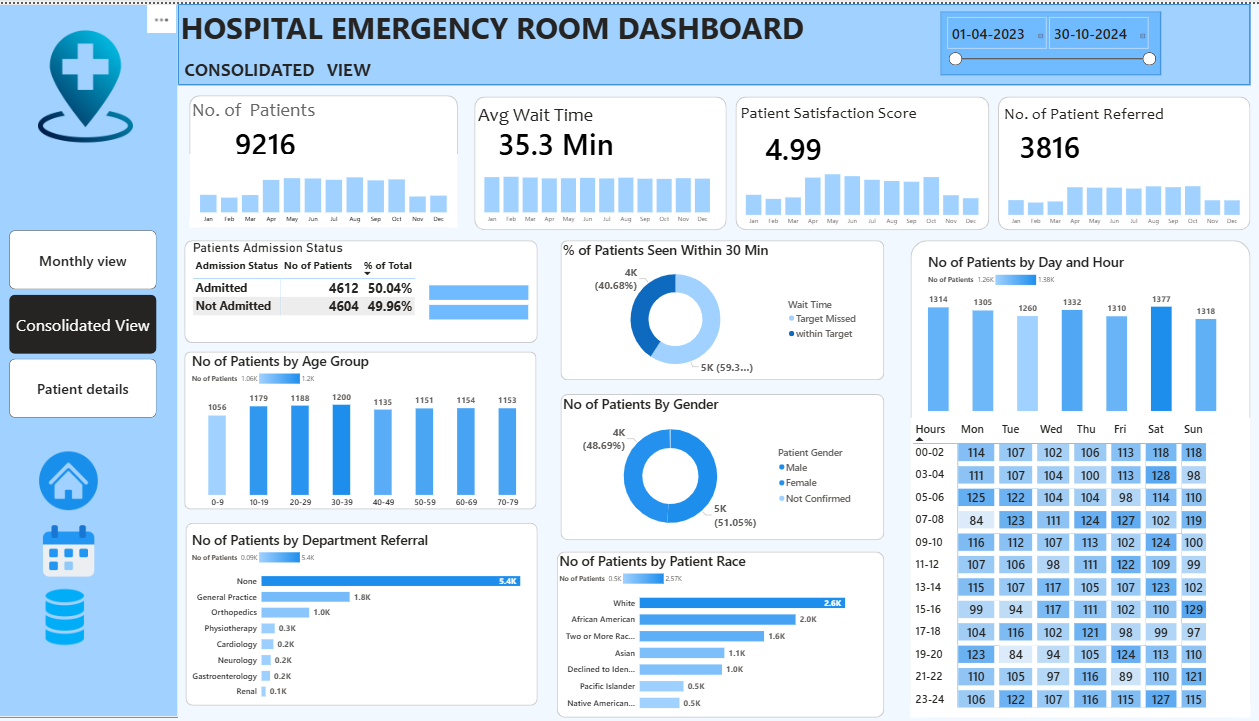

This screenshot's page, from the dashboard's own definition file:
{"tool":"powerbi","page":{"name":"Consolidated View","canvas":[2500,1420],"ordinal":1},"visuals":[{"type":"shape","box":[9.8,0,363.1,1400.9],"z":0},{"type":"shape","box":[372.9,0,2105,159.5],"z":1000},{"type":"textbox","box":[374,0,1252.4,108.3],"z":2000},{"type":"shape","box":[395,179.1,527.5,260.1],"z":3000},{"type":"textbox","box":[380.3,100.6,488.2,78.5],"z":4000},{"type":"card","fields":{"Values":["Hospital ER_Data.No of Patients"]},"box":[463.7,235.5,161.9,71.1],"z":5000},{"type":"slicer","fields":{"Values":["Date Table.Date"]},"box":[1869.5,14.7,431.8,125.1],"z":6000},{"type":"textbox","box":[396.1,179.6,337.1,59.1],"z":7000},{"type":"columnChart","fields":{"Category":["Date Table.Month Name"],"Y":["Hospital ER_Data.No of Patients"]},"box":[395,294.4,527.5,144.7],"z":8000},{"type":"shape","box":[954.4,181.5,495.6,262.5],"z":9000},{"type":"shape","box":[1982.3,181.5,495.6,262.5],"z":10000},{"type":"shape","box":[1467.1,181.5,498,262.5],"z":11000},{"type":"textbox","box":[956.8,188.9,245.3,61.3],"z":12000},{"type":"card","fields":{"Values":["Hospital ER_Data.Avg Wait Time"]},"box":[988.7,235.5,252.7,71.1],"z":13000},{"type":"columnChart","fields":{"Category":["Date Table.Month Name"],"Y":["Avg(Hospital ER_Data.Patient Waittime)"]},"box":[954.4,318.9,483.3,120.2],"z":14000},{"type":"textbox","box":[1472,188.9,368,58.9],"z":15000},{"type":"card","fields":{"Values":["Avg(Hospital ER_Data.Patient Satisfaction Score)"]},"box":[1506.4,247.8,149.7,66.2],"z":16000},{"type":"columnChart","fields":{"Category":["Date Table.Month Name"],"Y":["Hospital ER_Data.No of Patient Referred"]},"box":[1982.3,318.9,495.6,125.1],"z":17000},{"type":"textbox","box":[1982.3,191.4,370.5,58.9],"z":18000},{"type":"card","fields":{"Values":["Hospital ER_Data.No of Patient Referred"]},"box":[2009.3,242.9,149.7,71.1],"z":19000},{"type":"shape","box":[386.3,462.6,693.8,201.8],"z":20000},{"type":"columnChart","fields":{"Category":["Date Table.Month Name"],"Y":["Sum(Hospital ER_Data.Patient Satisfaction Score)"]},"box":[1467.1,318.9,498,125.1],"z":21000},{"type":"pivotTable","title":"Patients Admission Status","fields":{"Rows":["Hospital ER_Data.Admission Status"],"Values":["Hospital ER_Data.No of Patients1","Divide(Hospital ER_Data.No of Patients, ScopedEval(Hospital ER_Data.No of Patients, []))"]},"box":[398.6,462.6,452.7,201.8],"z":22000},{"type":"barChart","fields":{"Category":["Hospital ER_Data.Admission Status"],"Y":["Hospital ER_Data.No of Patients"]},"box":[861.1,519.2,263.3,125.5],"z":23000},{"type":"shape","box":[386.3,681.5,691.4,310],"z":24000},{"type":"clusteredColumnChart","fields":{"Y":["Hospital ER_Data.No of Patients"],"Category":["Hospital ER_Data.Age Group"]},"box":[396.1,681.5,681.5,317.4],"z":25000},{"type":"shape","box":[388.7,1018.6,691.4,359.2],"z":26000},{"type":"clusteredBarChart","fields":{"Category":["Hospital ER_Data.Department Referral"],"Y":["Hospital ER_Data.No of Patients"]},"box":[396.1,1033.4,681.5,344.5],"z":27000},{"type":"shape","box":[1123.6,463.7,635.4,274.8],"z":28000},{"type":"donutChart","title":"% of Patients Seen Within 30 Min","fields":{"Category":["Hospital ER_Data.Wait Time"],"Y":["Hospital ER_Data.No of Patients"]},"box":[1123.6,463.7,593.7,274.8],"z":29000},{"type":"shape","box":[1123.6,765.4,635.4,287],"z":30000},{"type":"donutChart","title":"No of Patients By Gender","fields":{"Category":["Hospital ER_Data.Patient Gender"],"Y":["Hospital ER_Data.No of Patients"]},"box":[1123.6,765.4,583.9,287],"z":31000},{"type":"shape","box":[1116.3,1074.6,642.8,326.3],"z":32000},{"type":"clusteredBarChart","fields":{"Y":["Hospital ER_Data.No of Patients"],"Category":["Hospital ER_Data.Patient Race"]},"box":[1116.3,1074.6,601.1,326.3],"z":33000},{"type":"shape","box":[1810.6,463.7,667.3,937.2],"z":34000},{"type":"pivotTable","fields":{"Rows":["Hospital ER_Data.Waiting Interval"],"Columns":["Date Table.Day Name"],"Values":["Hospital ER_Data.No of Patients"]},"box":[1810.6,812.1,667.3,588.8],"z":35000},{"type":"columnChart","title":"No of Patients by Day and Hour","fields":{"Category":["Date Table.Day Name"],"Y":["Hospital ER_Data.No of Patient Referred"]},"box":[1840,488.2,579,316.5],"z":36000},{"type":"image","box":[76.1,44.2,230.6,235.5],"z":37000},{"type":"pageNavigator","box":[41.7,444.1,289.5,368],"z":38000},{"type":"image","box":[88.3,873.4,139.8,125.1],"z":39000},{"type":"image","box":[103,1018.1,110.4,110.4],"z":40000},{"type":"image","box":[88.3,1135.9,125.1,134.9],"z":41000}]}

Visuals, with their boxes on the page's 2500x1420 design canvas (x1, y1, x2, y2). These are canvas units, not pixel positions in the 1259x721 screenshot, which may show the page scaled, cropped or inside an application window:
shape: 10, 0, 373, 1401
shape: 373, 0, 2478, 160
textbox: 374, 0, 1626, 108
shape: 395, 179, 922, 439
textbox: 380, 101, 868, 179
card - Hospital ER_Data.No of Patients: 464, 236, 626, 307
slicer - Date Table.Date: 1870, 15, 2301, 140
textbox: 396, 180, 733, 239
columnChart - Date Table.Month Name x Hospital ER_Data.No of Patients: 395, 294, 922, 439
shape: 954, 182, 1450, 444
shape: 1982, 182, 2478, 444
shape: 1467, 182, 1965, 444
textbox: 957, 189, 1202, 250
card - Hospital ER_Data.Avg Wait Time: 989, 236, 1241, 307
columnChart - Date Table.Month Name x Avg(Hospital ER_Data.Patient Waittime): 954, 319, 1438, 439
textbox: 1472, 189, 1840, 248
card - Avg(Hospital ER_Data.Patient Satisfaction Score): 1506, 248, 1656, 314
columnChart - Date Table.Month Name x Hospital ER_Data.No of Patient Referred: 1982, 319, 2478, 444
textbox: 1982, 191, 2353, 250
card - Hospital ER_Data.No of Patient Referred: 2009, 243, 2159, 314
shape: 386, 463, 1080, 664
columnChart - Date Table.Month Name x Sum(Hospital ER_Data.Patient Satisfaction Score): 1467, 319, 1965, 444
"Patients Admission Status" pivotTable: 399, 463, 851, 664
barChart - Hospital ER_Data.Admission Status x Hospital ER_Data.No of Patients: 861, 519, 1124, 645
shape: 386, 682, 1078, 992
clusteredColumnChart - Hospital ER_Data.No of Patients x Hospital ER_Data.Age Group: 396, 682, 1078, 999
shape: 389, 1019, 1080, 1378
clusteredBarChart - Hospital ER_Data.Department Referral x Hospital ER_Data.No of Patients: 396, 1033, 1078, 1378
shape: 1124, 464, 1759, 738
"% of Patients Seen Within 30 Min" donutChart: 1124, 464, 1717, 738
shape: 1124, 765, 1759, 1052
"No of Patients By Gender" donutChart: 1124, 765, 1708, 1052
shape: 1116, 1075, 1759, 1401
clusteredBarChart - Hospital ER_Data.No of Patients x Hospital ER_Data.Patient Race: 1116, 1075, 1717, 1401
shape: 1811, 464, 2478, 1401
pivotTable - Hospital ER_Data.Waiting Interval x Date Table.Day Name: 1811, 812, 2478, 1401
"No of Patients by Day and Hour" columnChart: 1840, 488, 2419, 805
image: 76, 44, 307, 280
pageNavigator: 42, 444, 331, 812
image: 88, 873, 228, 998
image: 103, 1018, 213, 1128
image: 88, 1136, 213, 1271
